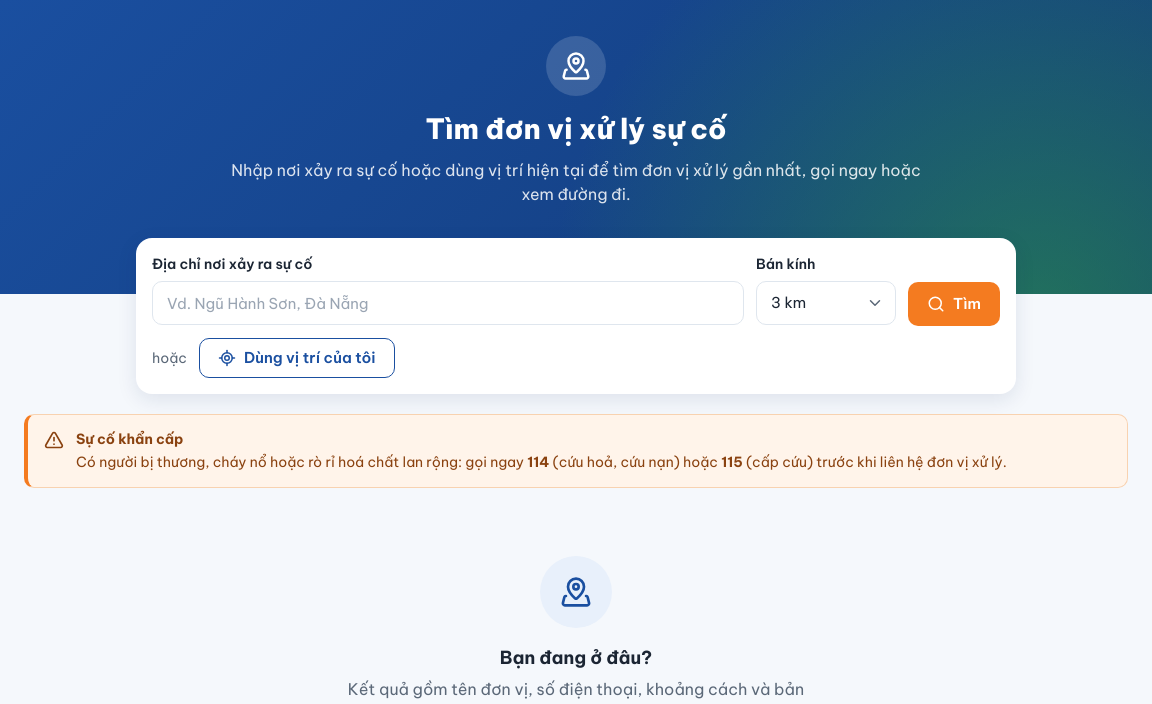
Test case: FindRespondersPage (tìm đơn vị xử lý sự cố) › asks for an address before searching
Click the button "Tìm": click(954, 304) left=908, top=282, right=1000, bottom=326
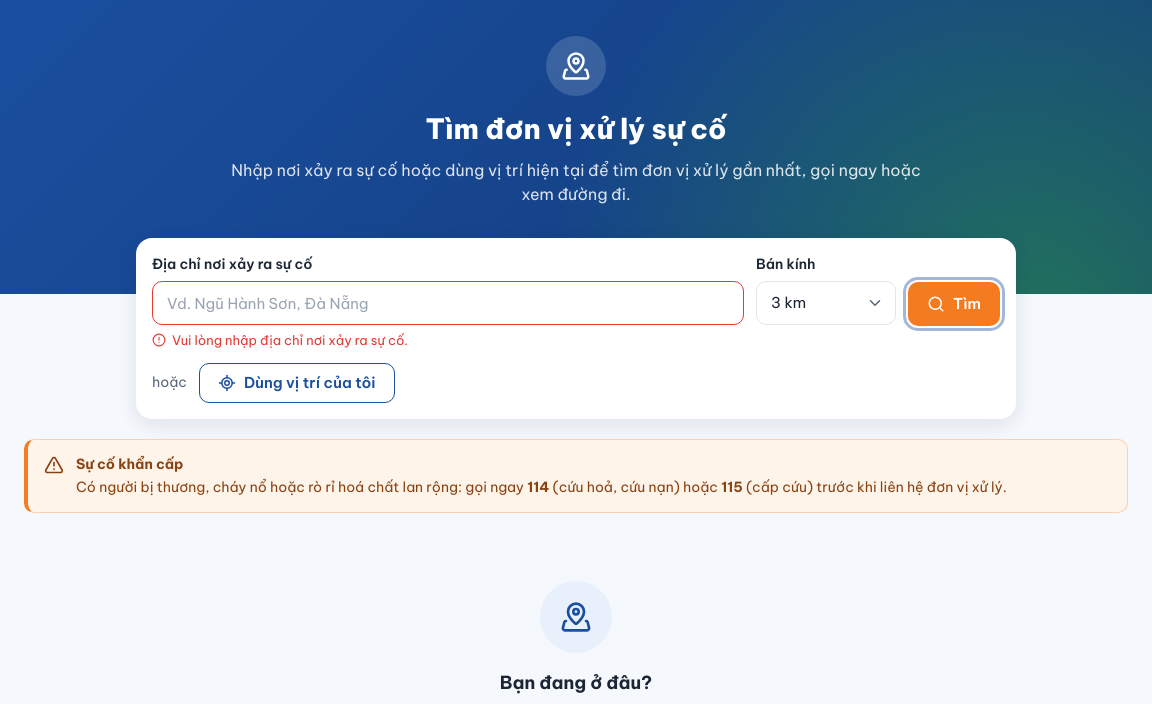
Now the text "Vui lòng nhập địa chỉ nơi xảy ra sự cố." is shown, box left=152, top=332, right=408, bottom=348
